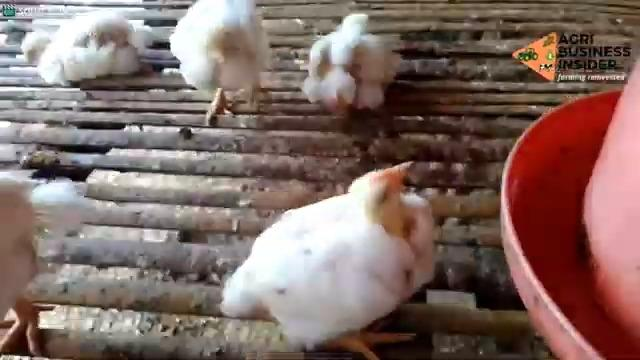AbNormal: (226, 161, 436, 349), (306, 6, 401, 109)
